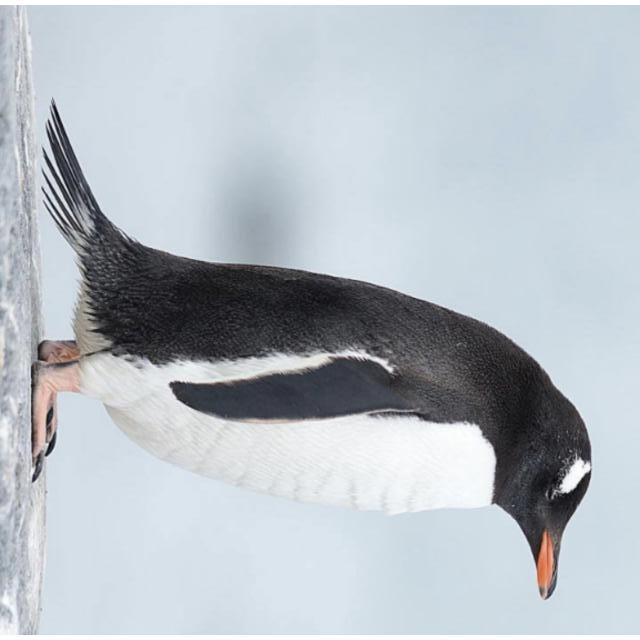penguin: (29, 96, 597, 605)
